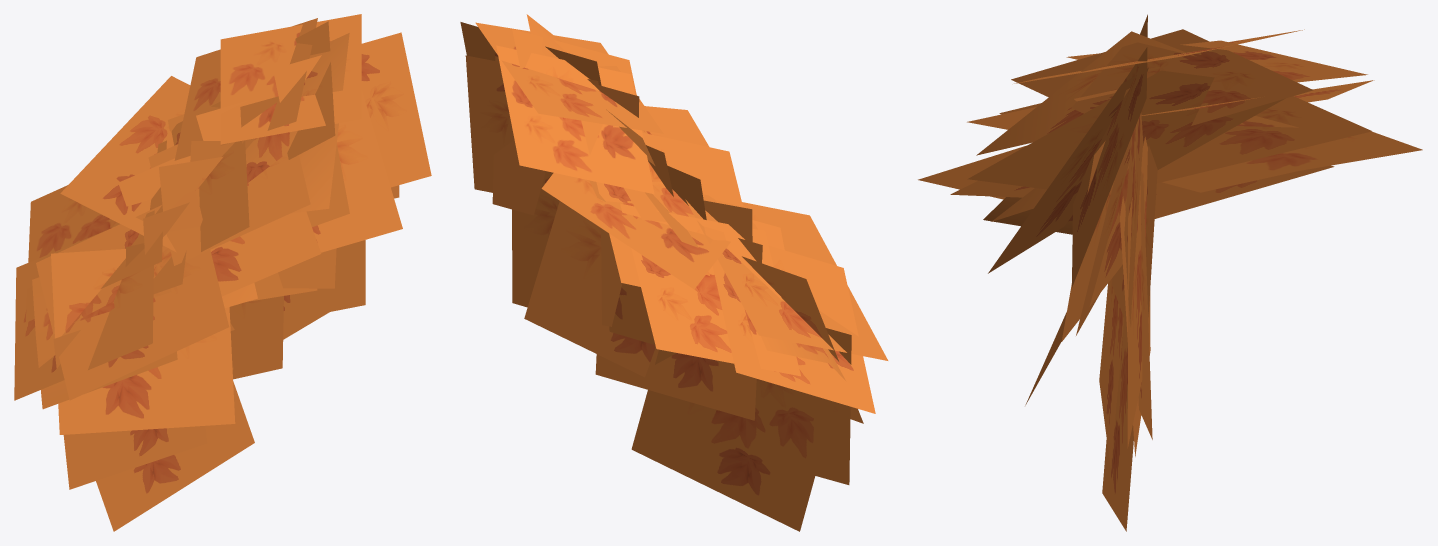
Rendered from SM_Env_Vines_03.fbx.
3 views of the same model, side by side, from view 1: azimuth 30°, elevation 25°; view 2: azimuth 150°, elevation 25°; view 3: azimuth 270°, elevation 25° (orthographic). The views are drawn at different scales.
Visible parts, largest first — view 1: SM_Env_Vines_03_LOD0; view 2: SM_Env_Vines_03_LOD0; view 3: SM_Env_Vines_03_LOD0.
Boxes of the visible parts, x1,y1,x2,y2 form: SM_Env_Vines_03_LOD0: (14,14,431,531); SM_Env_Vines_03_LOD0: (460,14,888,531); SM_Env_Vines_03_LOD0: (918,14,1422,531).
Size of what is drawn, in the model's own units: 466 by 489 by 351.
